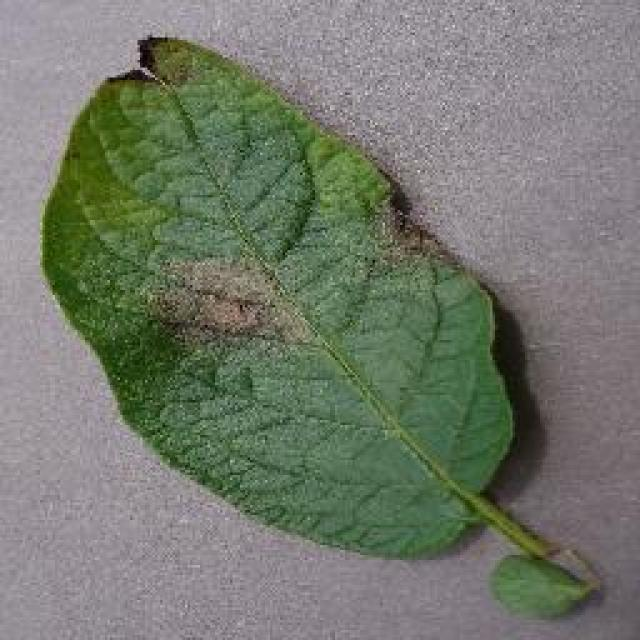late_blight: (35, 30, 520, 565)
